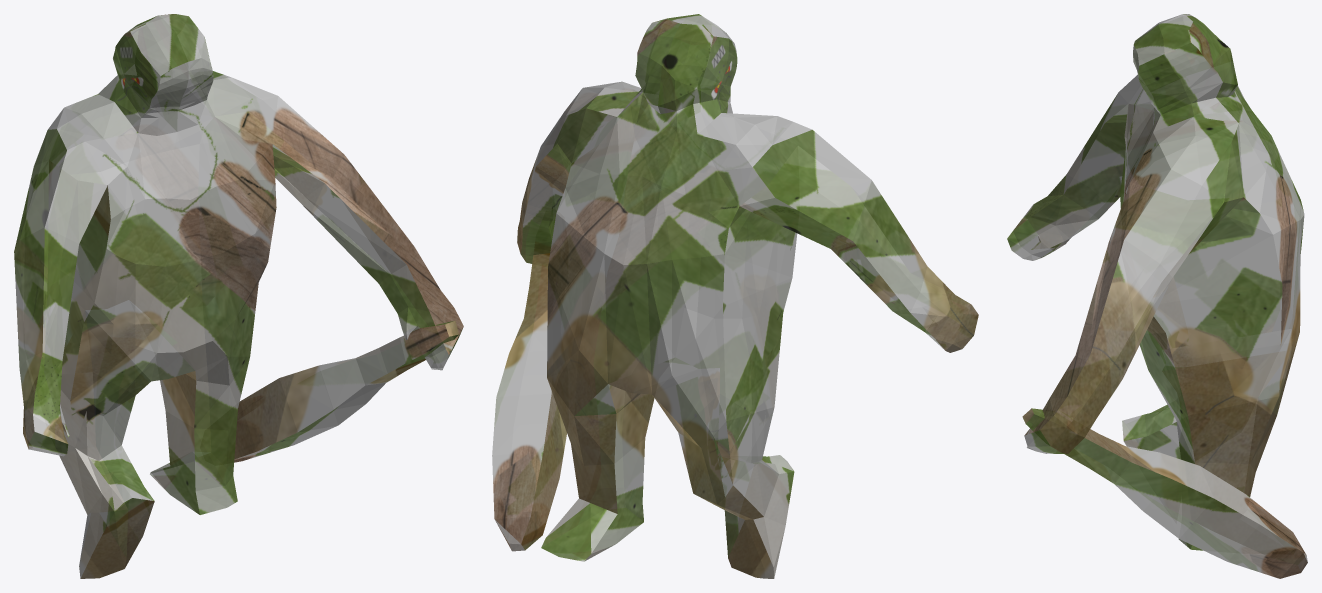
Rendered from Enemigo212.obj.
The picture shows the model from 3 angles, left to right: view 1: azimuth 30°, elevation 25°; view 2: azimuth 150°, elevation 25°; view 3: azimuth 270°, elevation 25°; orthographic projection. The views are drawn at different scales.
Visible parts, largest first — view 1: Cube; view 2: Cube; view 3: Cube.
Boxes of the visible parts, x1,y1,x2,y2 form: Cube: (14, 14, 463, 578); Cube: (492, 14, 978, 578); Cube: (1007, 14, 1307, 578).
Bounding box in the file's own units: 2.41 × 2.85 × 1.47.
